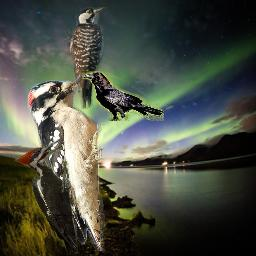Crow: (82, 71, 164, 121)
Woodpecker: (27, 76, 105, 251), (14, 139, 78, 255), (60, 7, 107, 114)
